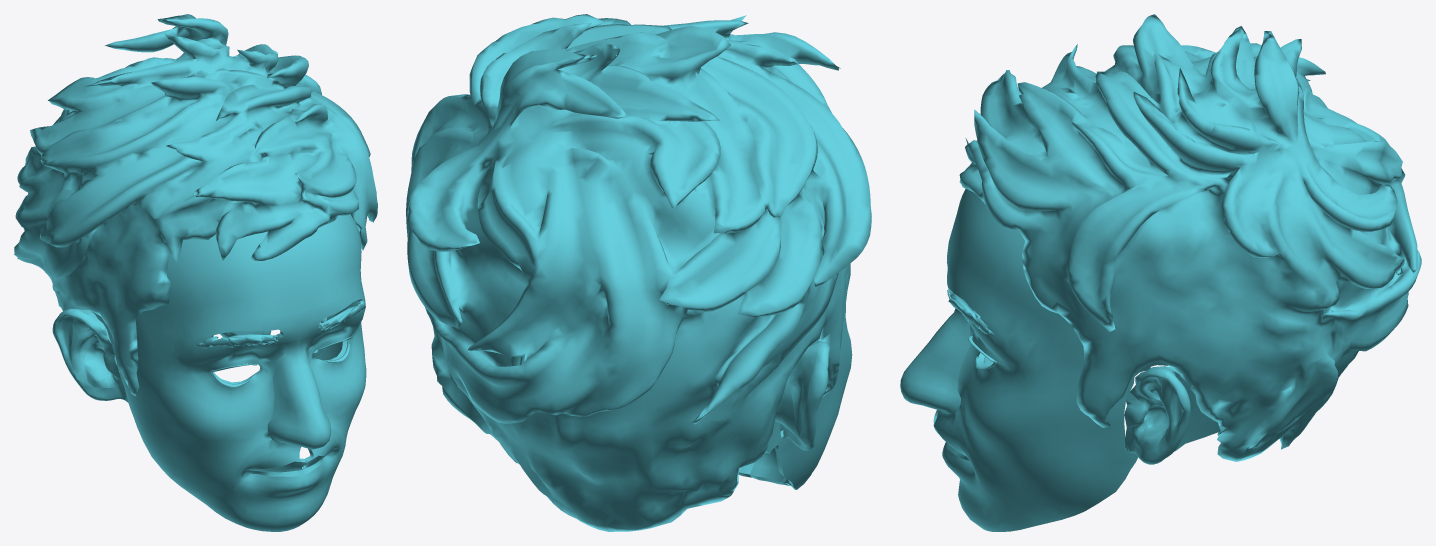
The picture shows the model from 3 angles, left to right: view 1: azimuth 30°, elevation 25°; view 2: azimuth 150°, elevation 25°; view 3: azimuth 270°, elevation 25°; orthographic projection. The views are drawn at different scales.
Parts seen in each view (by area): view 1: body-shell__Hairs of head, body-shell__Frontal region.r, body-shell__Buccal region.r, body-shell__Frontal region.l, body-shell__Orbital region.r, body-shell__Nasal region.r, body-shell__Oral region.r, body-shell__Zygomatic region.r, body-shell__Infra-orbital region.r, body-shell__Orbital region.l, body-shell__Parotideomasseteric region.r, body-shell__Mental region.r (+11 smaller); view 2: body-shell__Hairs of head, body-shell__Parotideomasseteric region.r, body-shell__Helix.r, body-shell__Mental region.r, body-shell__Eminentia scaphae.r, body-shell__Eminentia conchae.r, body-shell__Fossa antihelica.r; view 3: body-shell__Hairs of head, body-shell__Frontal region.l, body-shell__Buccal region.l, body-shell__Parotideomasseteric region.l, body-shell__Nasal region.l, body-shell__Zygomatic region.l, body-shell__Temporal region.l, body-shell__Orbital region.l, body-shell__Oral region.l, body-shell__Auricular region.l, body-shell__Infra-orbital region.l, body-shell__Helix.l (+2 smaller).
Part boxes in pixels (x1,y1,x2,y2): body-shell__Hairs of head: [14, 14, 377, 396]; body-shell__Frontal region.r: [156, 233, 300, 375]; body-shell__Buccal region.r: [158, 406, 267, 527]; body-shell__Frontal region.l: [291, 214, 365, 339]; body-shell__Orbital region.r: [189, 334, 284, 404]; body-shell__Nasal region.r: [267, 340, 321, 449]; body-shell__Oral region.r: [235, 440, 306, 502]; body-shell__Zygomatic region.r: [136, 361, 209, 432]; body-shell__Infra-orbital region.r: [205, 379, 274, 433]; body-shell__Orbital region.l: [305, 306, 363, 381]; body-shell__Parotideomasseteric region.r: [121, 373, 174, 481]; body-shell__Mental region.r: [245, 496, 296, 531]; body-shell__Hairs of head: [406, 14, 871, 531]; body-shell__Parotideomasseteric region.r: [774, 374, 842, 489]; body-shell__Helix.r: [799, 341, 828, 445]; body-shell__Mental region.r: [749, 423, 789, 485]; body-shell__Eminentia scaphae.r: [792, 343, 819, 427]; body-shell__Eminentia conchae.r: [774, 376, 804, 444]; body-shell__Fossa antihelica.r: [789, 371, 803, 435]; body-shell__Hairs of head: [959, 14, 1421, 461]; body-shell__Frontal region.l: [947, 190, 1051, 385]; body-shell__Buccal region.l: [961, 405, 1061, 531]; body-shell__Parotideomasseteric region.l: [1046, 411, 1138, 519]; body-shell__Nasal region.l: [900, 308, 970, 414]; body-shell__Zygomatic region.l: [985, 376, 1117, 434]; body-shell__Temporal region.l: [1036, 311, 1083, 389]; body-shell__Orbital region.l: [950, 293, 1011, 391]; body-shell__Oral region.l: [933, 410, 978, 497]; body-shell__Auricular region.l: [1113, 361, 1200, 455]; body-shell__Infra-orbital region.l: [957, 347, 993, 431]; body-shell__Helix.l: [1134, 368, 1190, 455].
Bounding box in the file's own units: 0.1963 × 0.2556 × 0.2483.
